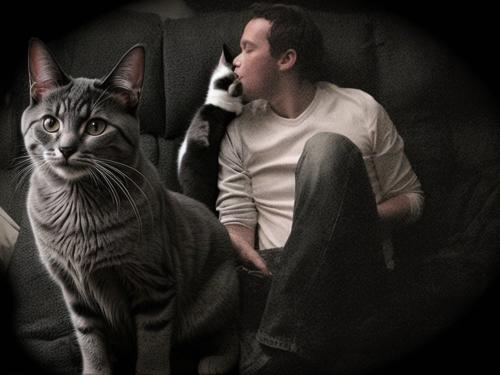cat: (12, 37, 242, 375)
person: (197, 4, 424, 374)
person/hand: (217, 228, 274, 305)
person/head: (228, 12, 327, 122)
sofa: (2, 4, 500, 368)
